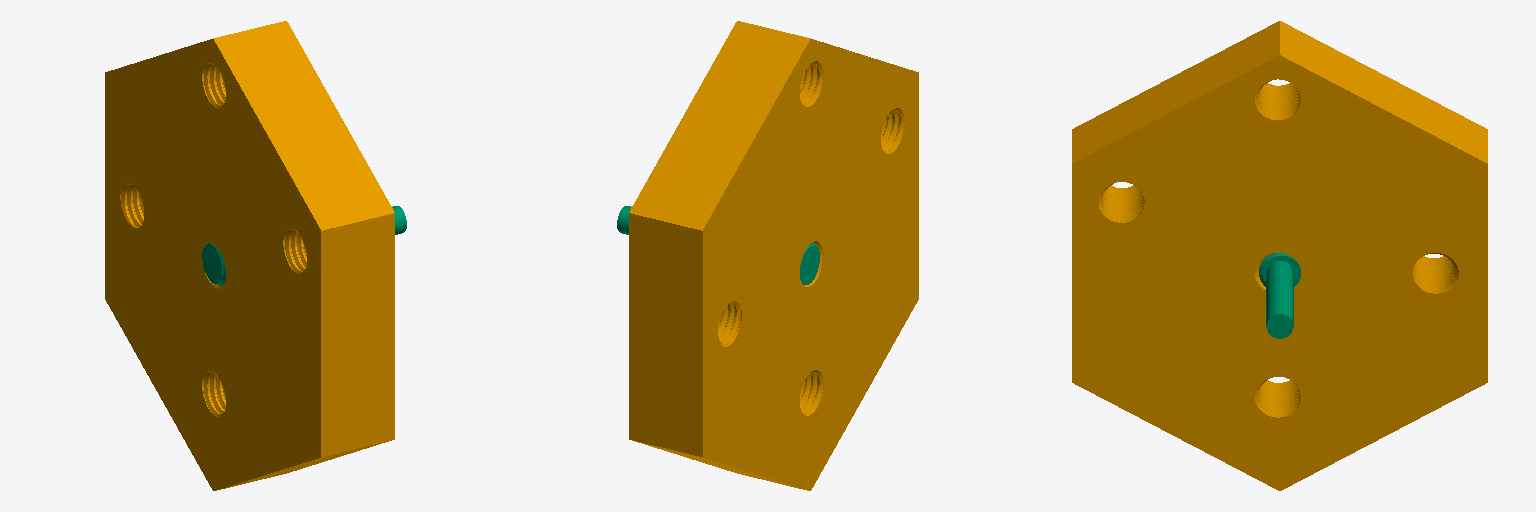
URDF robot description (Peg_insertion_1):
<?xml version="1.0"?>
<!--
  Peg insertion (Hole 1 - Centre): five-hole plate + one threaded peg in the centre
  hole on a continuous revolute and a prismatic joint along the hole axis.
  Turns the plate normal to +X like the other mechanisms.
  PrismaticJoint = 0 seats the peg (its end flush with the plate back).
-->
<robot name="Peg_insertion_1">
  <link name="World">
    <inertial><origin xyz="0.0075 0 0" rpy="0 0 0" /><mass value="0.1008" /><inertia ixx="0.000114125" ixy="0" ixz="0" iyy="6.7105e-05" iyz="0" izz="5.08014e-05" /></inertial>
    <visual>
      <origin xyz="0 0 0" rpy="0 1.5707963 0" />
      <geometry><mesh filename="meshes/Base_principal_Corpo1.obj" scale="1 1 1" /></geometry>
    </visual>
    <collision>
      <origin xyz="0.0075 0 0" rpy="0 0 0" />
      <geometry><box size="0.015 0.076 0.076" /></geometry>
    </collision>
  </link>
  <link name="rot_pivot">
    <inertial><origin xyz="0 0 0" rpy="0 0 0" /><mass value="0.005" /><inertia ixx="1e-06" ixy="0" ixz="0" iyy="1e-06" iyz="0" izz="1e-06" /></inertial>
  </link>
  <link name="peg">
    <!-- CAD mass is ~2 g; 20 g keeps the grasp contacts stable. -->
    <inertial><origin xyz="0 0 0.019" rpy="0 0 0" /><mass value="0.02" /><inertia ixx="1e-06" ixy="0" ixz="0" iyy="1e-06" iyz="0" izz="1e-06" /></inertial>
    <visual>
      <origin xyz="0 0 0" rpy="0 0 0" />
      <geometry><mesh filename="meshes/Al__a_Corpo1.obj" scale="1 1 1" /></geometry>
    </visual>
    <collision>
      <origin xyz="0 0 0" rpy="0 0 0" />
      <geometry><mesh filename="meshes/Al__a_Corpo1.obj" scale="1 1 1" /></geometry>
    </collision>
  </link>
  <!-- Child frames have +Z along the hole, which is World +X. -->
  <joint name="RevoluteJoint" type="continuous">
    <origin xyz="0 0 0" rpy="0 1.5707963 0" />
    <parent link="World" />
    <child link="rot_pivot" />
    <axis xyz="0 0 1" />
  </joint>
  <joint name="PrismaticJoint" type="prismatic">
    <origin xyz="0 0 0" rpy="0 0 0" />
    <parent link="rot_pivot" />
    <child link="peg" />
    <axis xyz="0 0 1" />
    <limit lower="0.0" upper="0.020" effort="100.0" velocity="1.0" />
  </joint>
</robot>

--- Render facts (derived) ---
Views: 3 orthographic renders of the robot side by side, from view 1: azimuth 30°, elevation 25°; view 2: azimuth 150°, elevation 25°; view 3: azimuth 270°, elevation 25°.
Model Peg_insertion_1 with 3 links and 2 joints (1 continuous, 1 prismatic), rooted at World, posed all joints at 0.
Links seen in each view (by area): view 1: World, peg; view 2: World, peg; view 3: World, peg.
Link boxes in pixels (x1=…): World: x1=105, y1=21, x2=394, y2=490; peg: x1=202, y1=206, x2=406, y2=285; World: x1=629, y1=21, x2=918, y2=490; peg: x1=617, y1=206, x2=819, y2=284; World: x1=1072, y1=21, x2=1487, y2=490; peg: x1=1259, y1=253, x2=1300, y2=338.
Size in the robot's own frame: 0.038 by 0.0763 by 0.0881 metres.
2 mesh visuals loaded from 2 distinct referenced files (2 OBJ).
